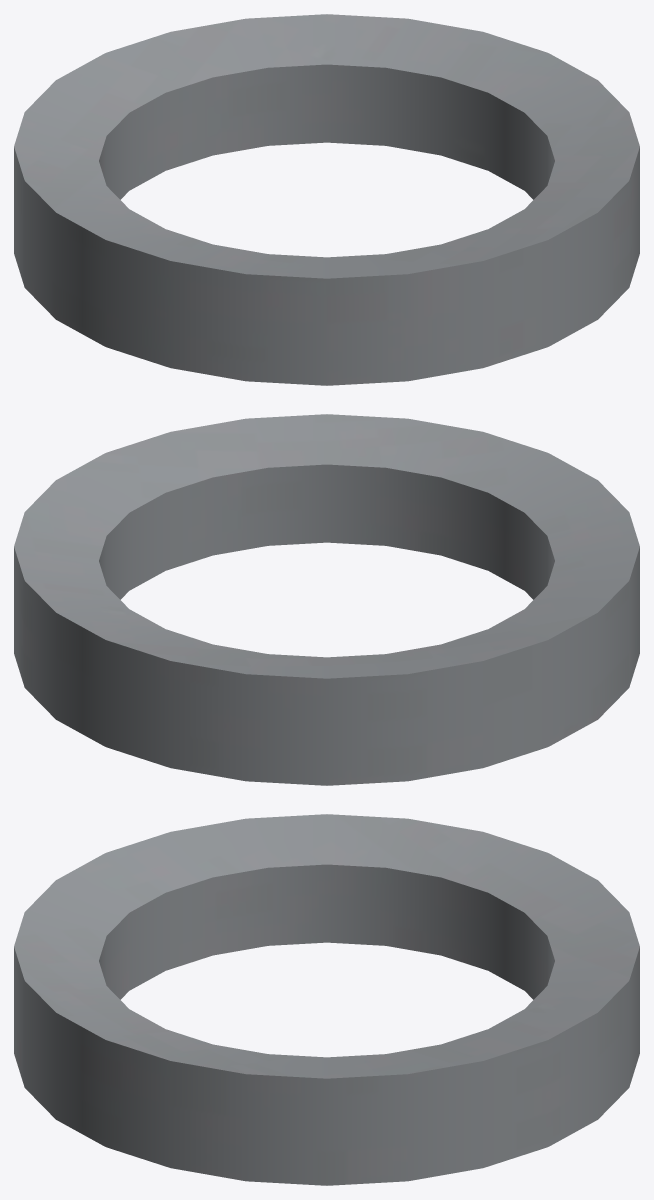
File: Part - Simlpe form 13-CuM5QjeF.glb
The picture shows the model from 3 angles, top to bottom: view 1: azimuth 30°, elevation 25°; view 2: azimuth 150°, elevation 25°; view 3: azimuth 270°, elevation 25°; orthographic projection.
Visible parts, largest first — view 1: Simlpe_form_13; view 2: Simlpe_form_13; view 3: Simlpe_form_13.
Part boxes in pixels (x1,y1,x2,y2): Simlpe_form_13: (14,14,639,385); Simlpe_form_13: (14,414,639,785); Simlpe_form_13: (14,814,639,1185).
Bounding box in the file's own units: 1.22 × 0.231 × 1.22.
1 material, 1 textured.
